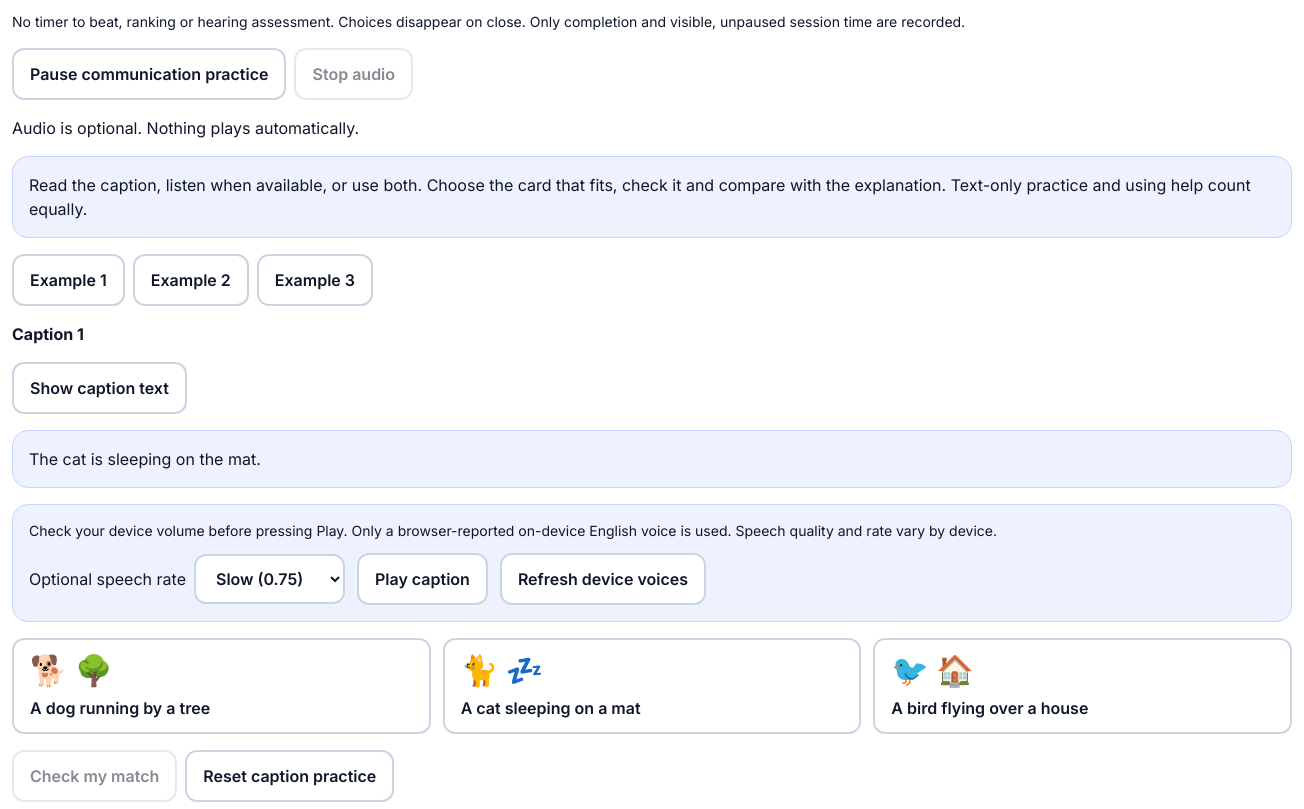
Test: caption text is visible by default and can be restored without listening
The image size is (1304, 809).
Expected: the text named "Caption transcript" reads "The cat is sleeping on the mat.", left=29, top=449, right=261, bottom=469
Click the button "Show caption text". click: {"x": 99, "y": 388}
box: left=12, top=362, right=187, bottom=414
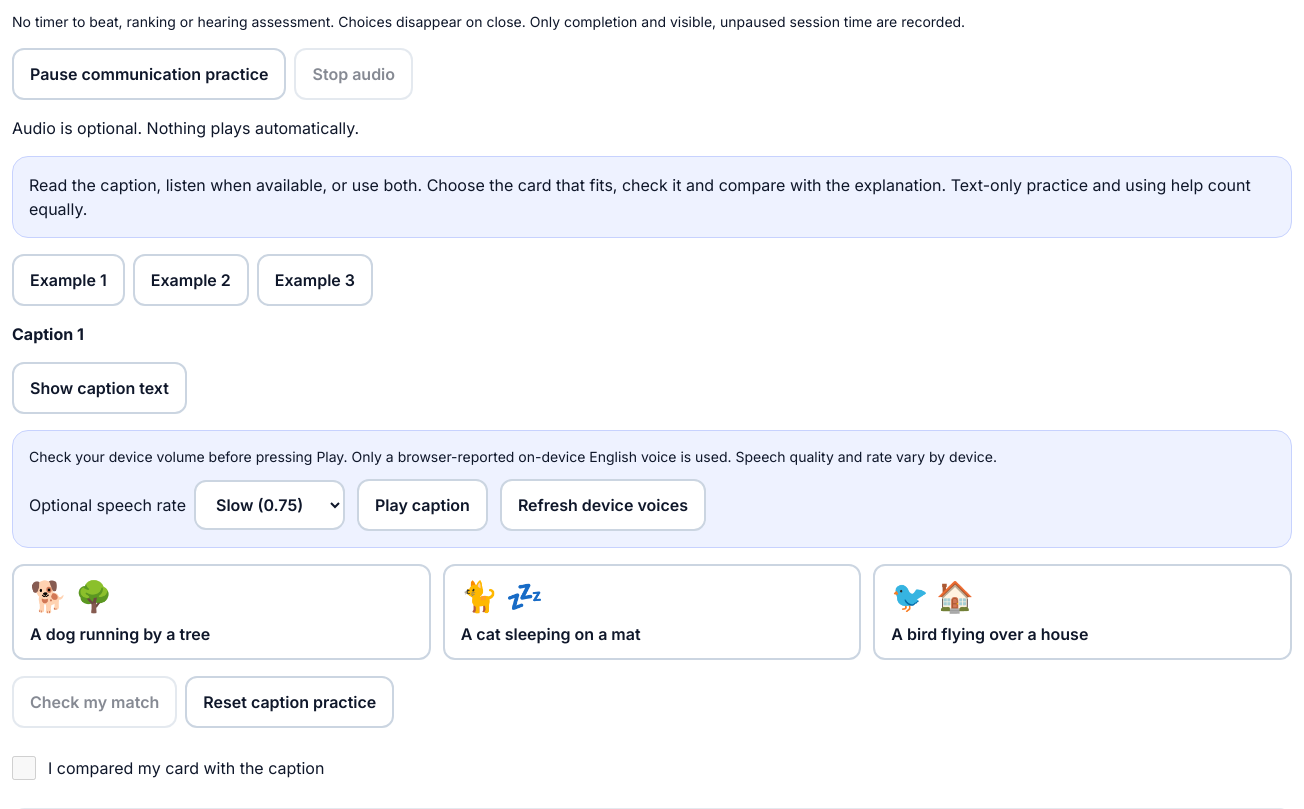
Click the button "Show caption text". click: {"x": 99, "y": 388}
box: left=12, top=362, right=187, bottom=414
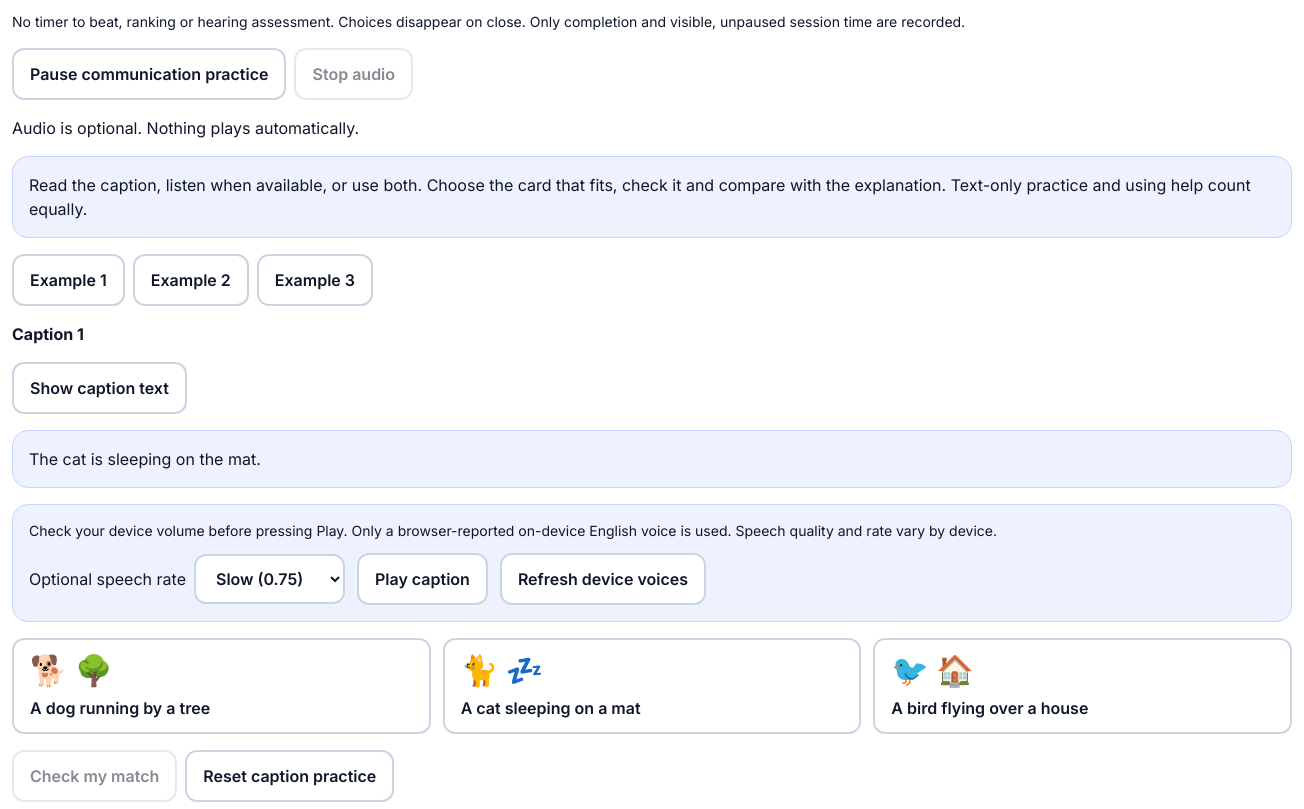
Result: the text named "Caption transcript" is shown at left=12, top=430, right=1292, bottom=488
